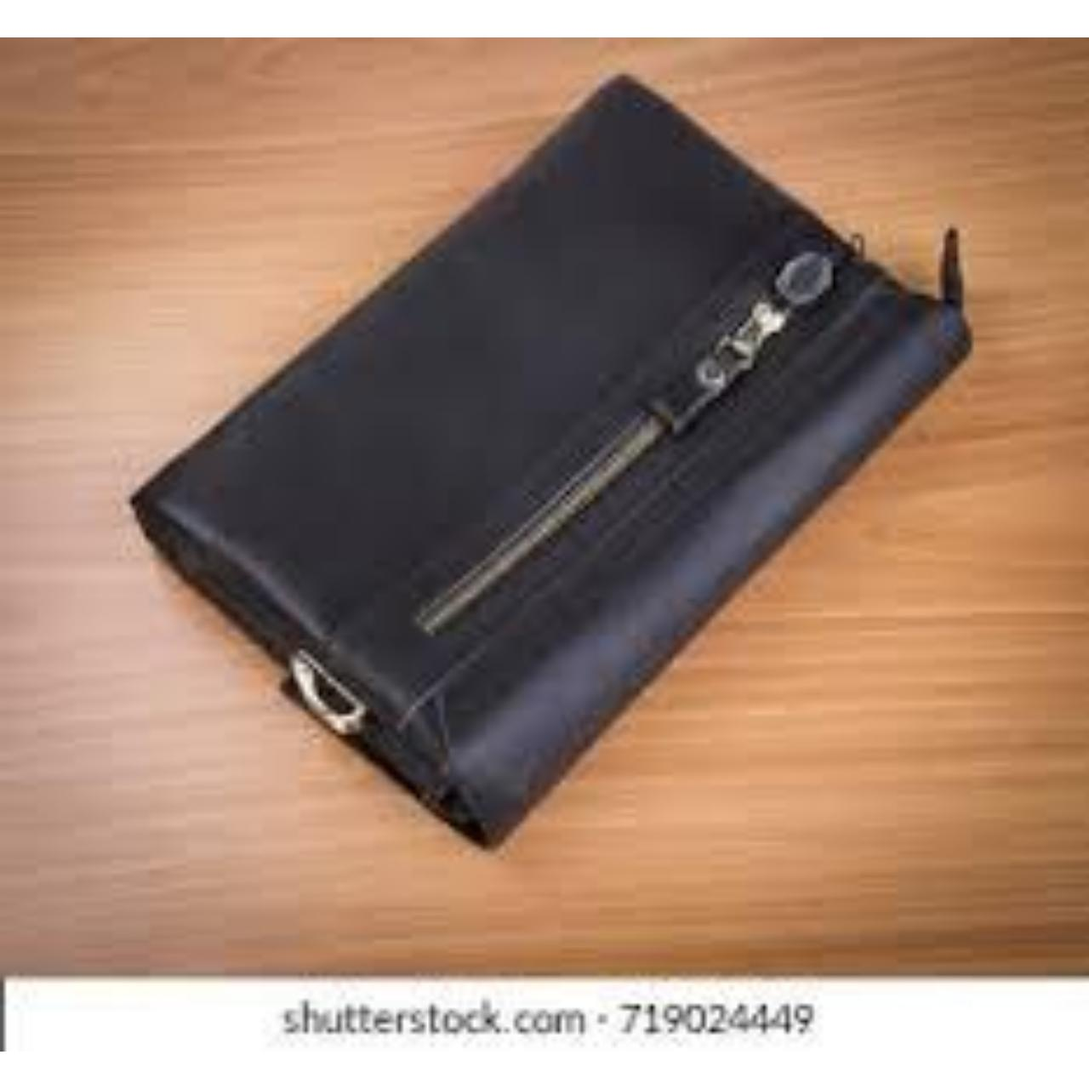wallet: (117, 100, 995, 852)
